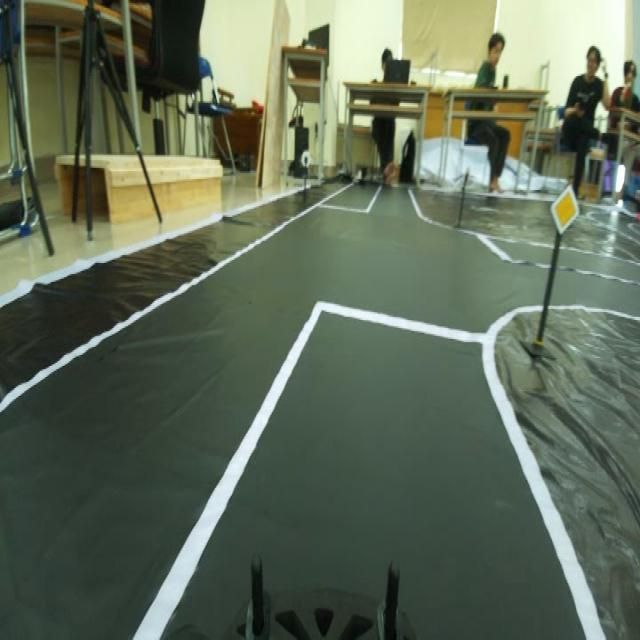priority: (544, 168, 583, 234)
